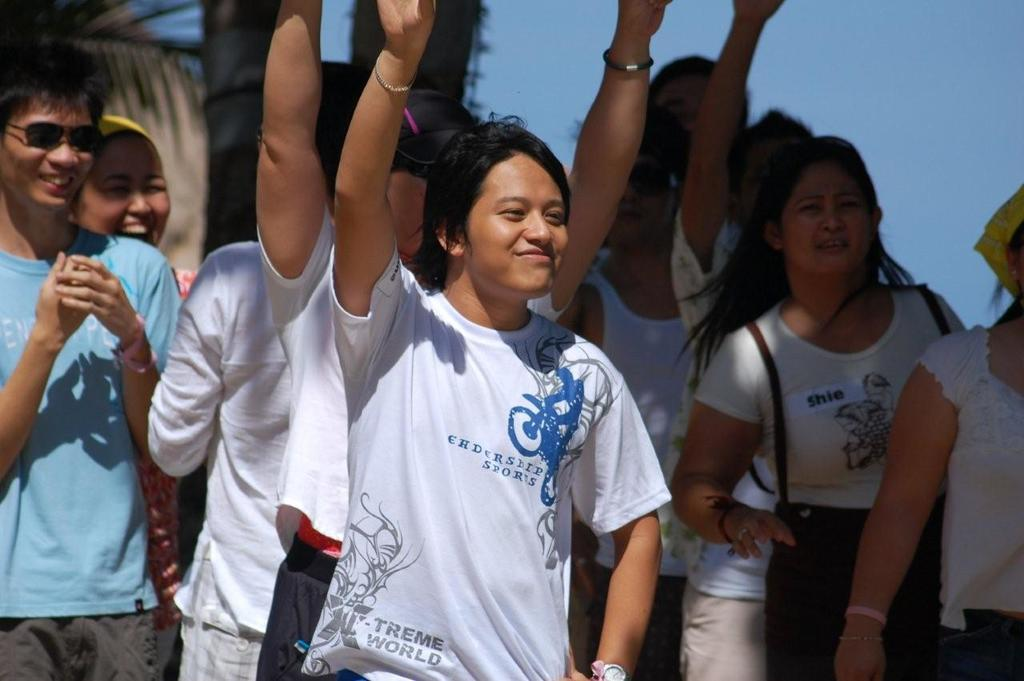Sem Máscara: (462, 154, 567, 296), (71, 125, 165, 248), (0, 92, 93, 210), (781, 160, 871, 272), (600, 148, 675, 243)
